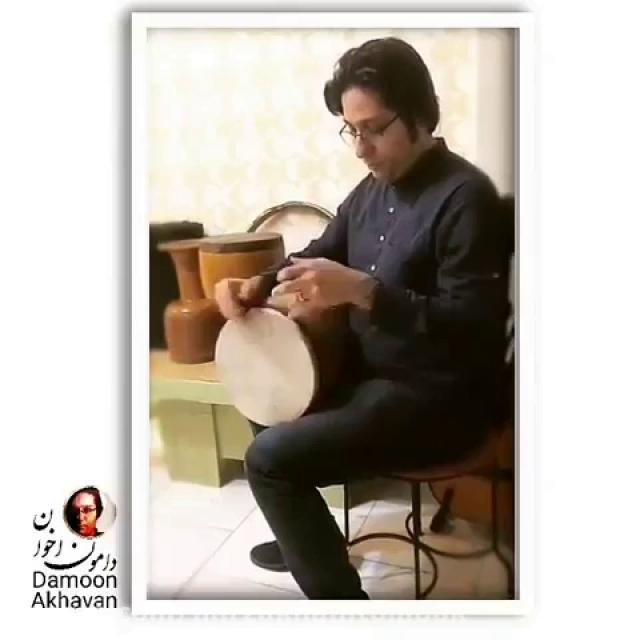Tombak: (212, 301, 352, 432)
